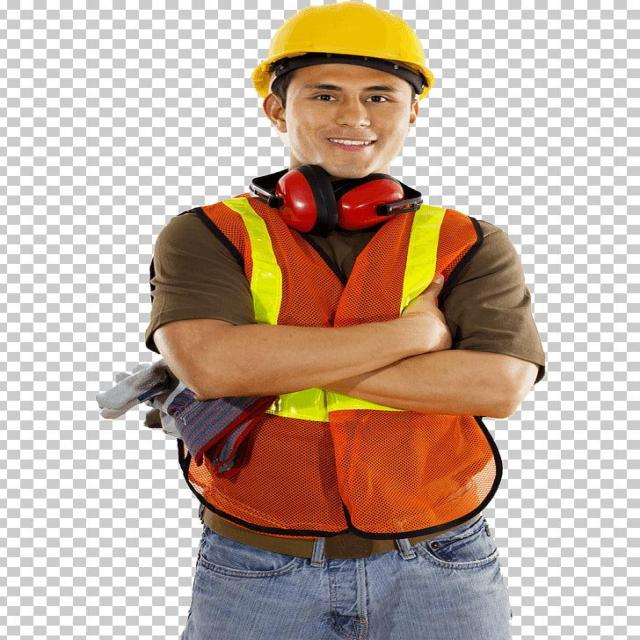Reflective-Jacket: (178, 192, 496, 531)
Safety-Helmet: (250, 1, 438, 87)
